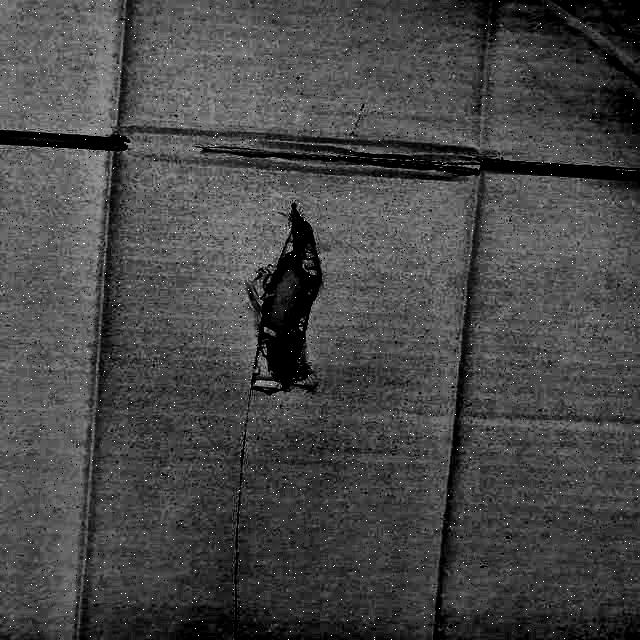box: (1, 0, 639, 639)
hole: (249, 198, 332, 396)
